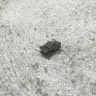Dog: (38, 38, 62, 58)
